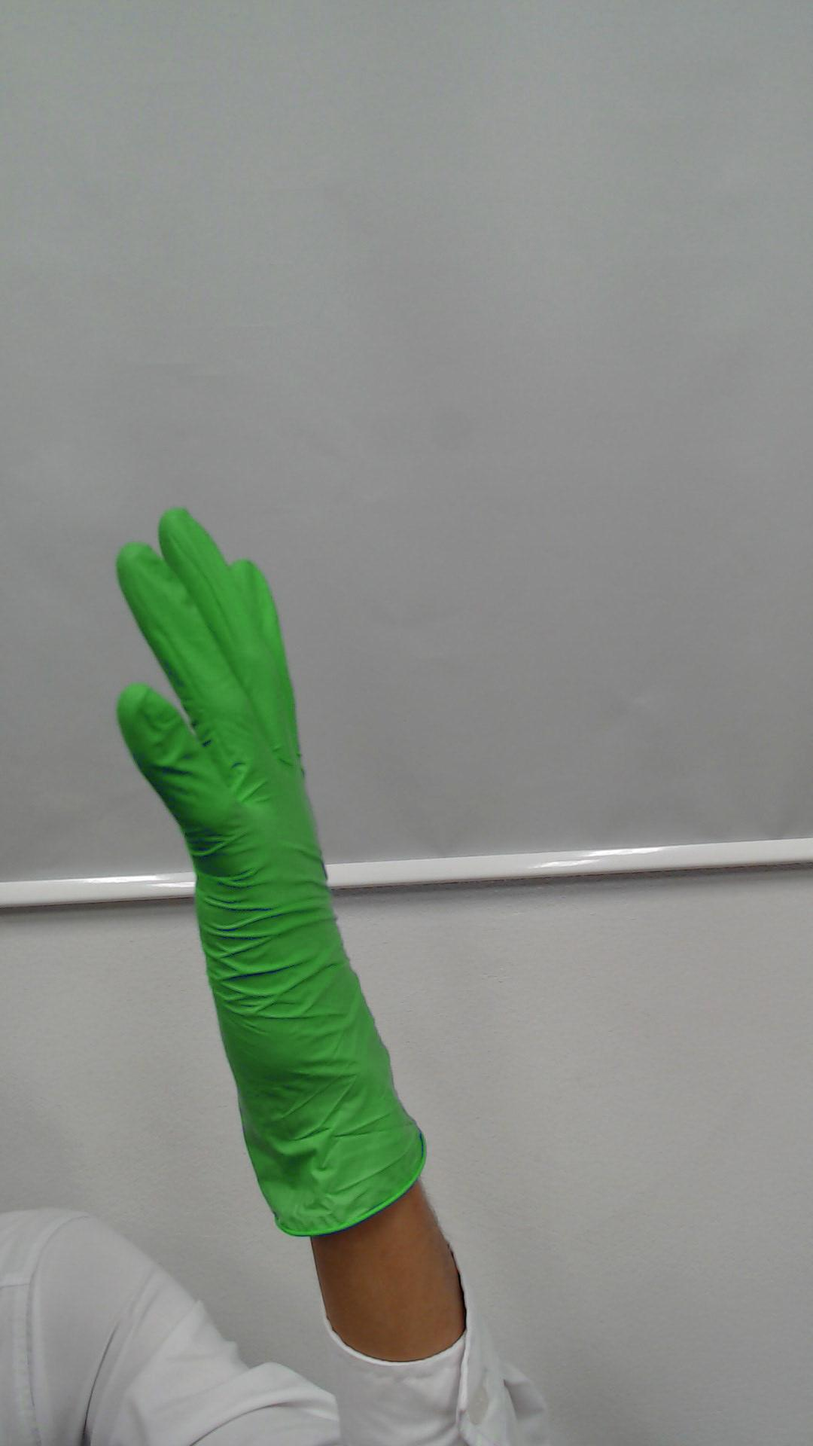gloves: (103, 486, 377, 1058)
